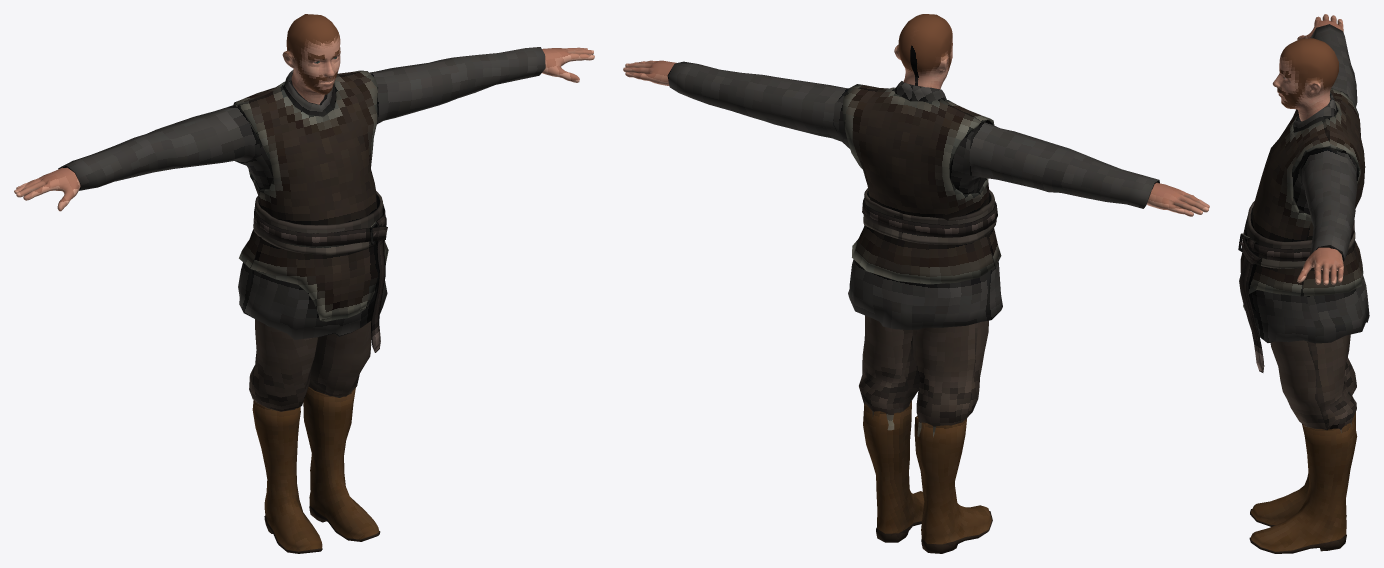
Rendered from man.glb.
3 renders of one model, left to right at view 1: azimuth 30°, elevation 25°; view 2: azimuth 150°, elevation 25°; view 3: azimuth 270°, elevation 25°, orthographic. The views are drawn at different scales.
Parts seen in each view (by area): view 1: man; view 2: man; view 3: man.
Part boxes in pixels (x1,y1,x2,y2): man: (14, 14, 594, 553); man: (623, 14, 1209, 553); man: (1238, 14, 1369, 553).
Size of the model in its own units: 1.86 by 1.57 by 0.3795.
Materials: 1 (1 with a texture image).
